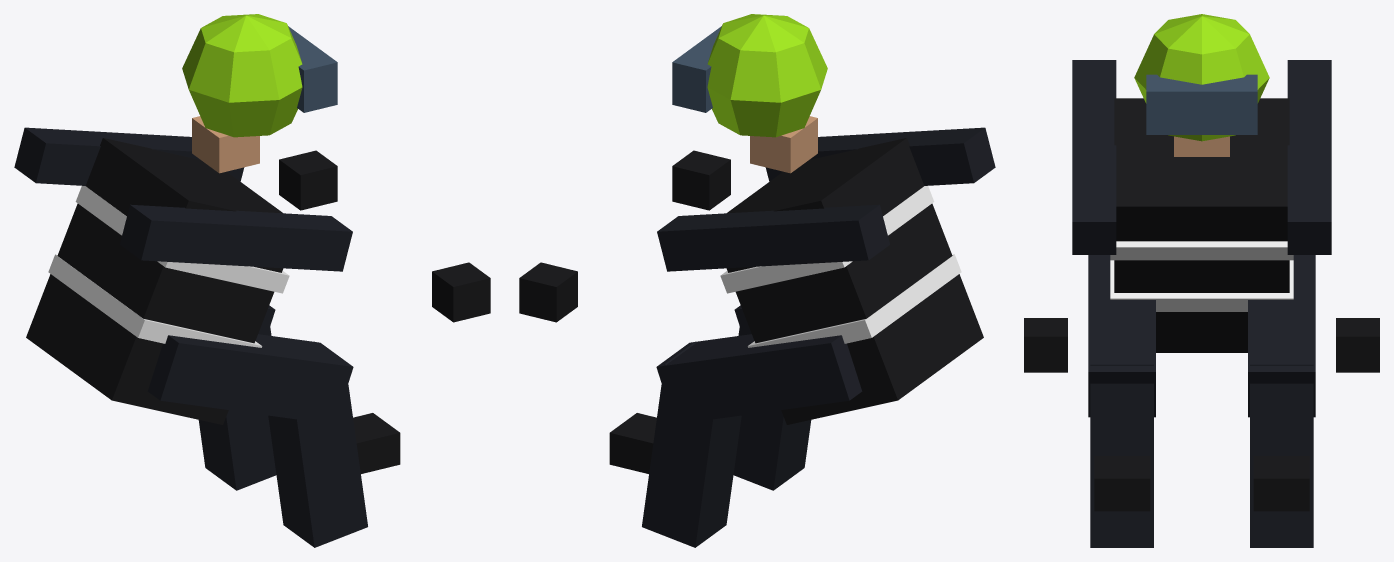
File: jetski_rider_neon.obj
3 renders of one model, left to right at view 1: azimuth 30°, elevation 25°; view 2: azimuth 150°, elevation 25°; view 3: azimuth 270°, elevation 25°, orthographic. The views are drawn at different scales.
Visible parts, largest first — view 1: jetski_rider_neon; view 2: jetski_rider_neon; view 3: jetski_rider_neon.
Part boxes in pixels (left/top/right/bottom): jetski_rider_neon: left=14, top=14, right=490, bottom=547; jetski_rider_neon: left=519, top=14, right=995, bottom=547; jetski_rider_neon: left=1024, top=14, right=1379, bottom=547.
Size of the model in its own units: 0.9894 by 1.4 by 0.893.
